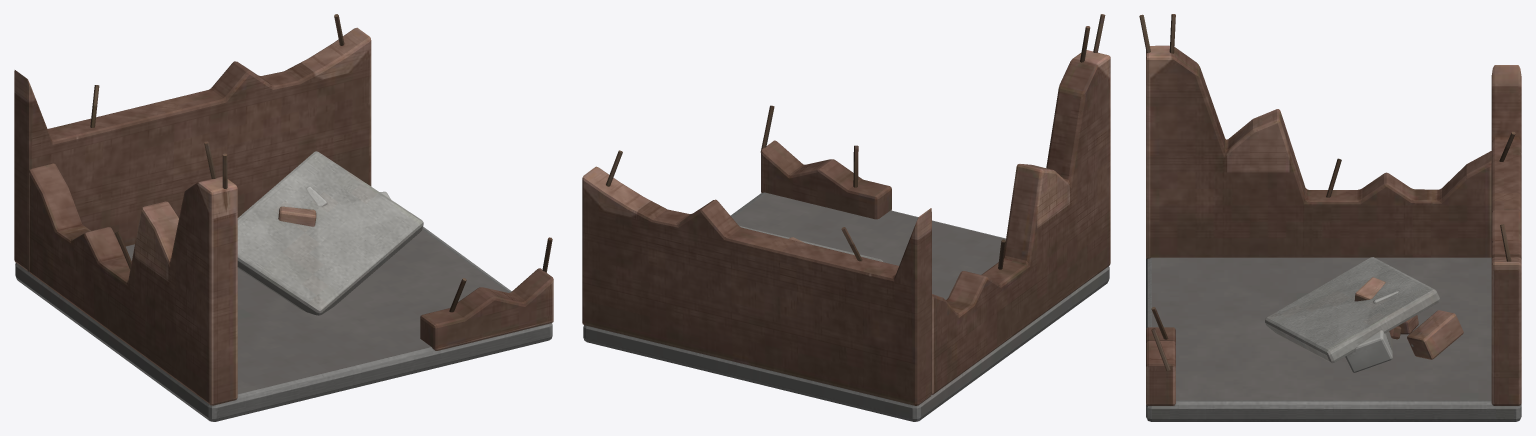
File: ruin-brick.glb
3 renders of one model, left to right at view 1: azimuth 30°, elevation 25°; view 2: azimuth 150°, elevation 25°; view 3: azimuth 270°, elevation 25°, orthographic. The views are drawn at different scales.
Parts seen in each view (by area): view 1: ruin_brick; view 2: ruin_brick; view 3: ruin_brick.
Part boxes in pixels (x1,y1,x2,y2): ruin_brick: [14, 14, 553, 421]; ruin_brick: [582, 14, 1110, 421]; ruin_brick: [1139, 14, 1521, 421].
Bounding box in the file's own units: 2.02 × 1.5 × 2.03.
1 material, 1 textured.
